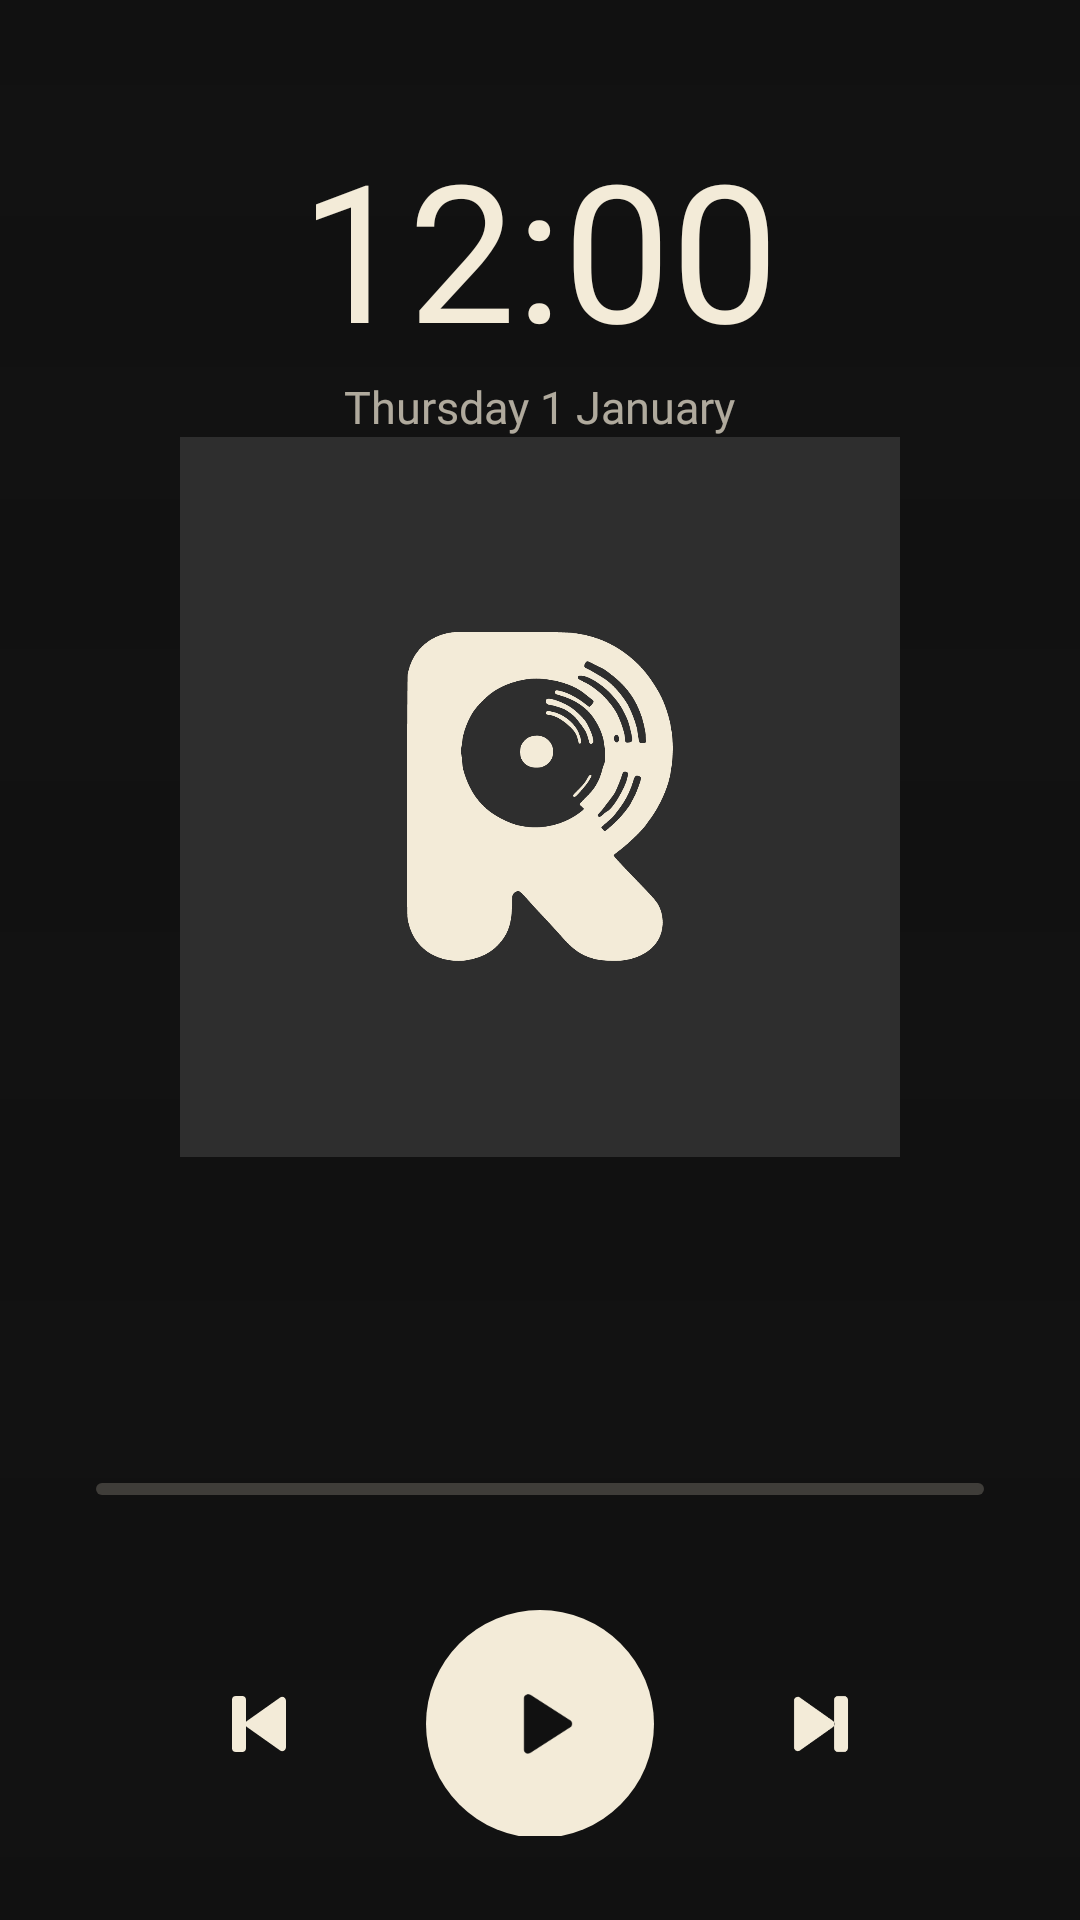

Point at icon controls on the screen. Image size 1080 x 1920, points as [x,y].
Next: [821,1724]
Play: [540,1723]
Previous: [259,1724]
